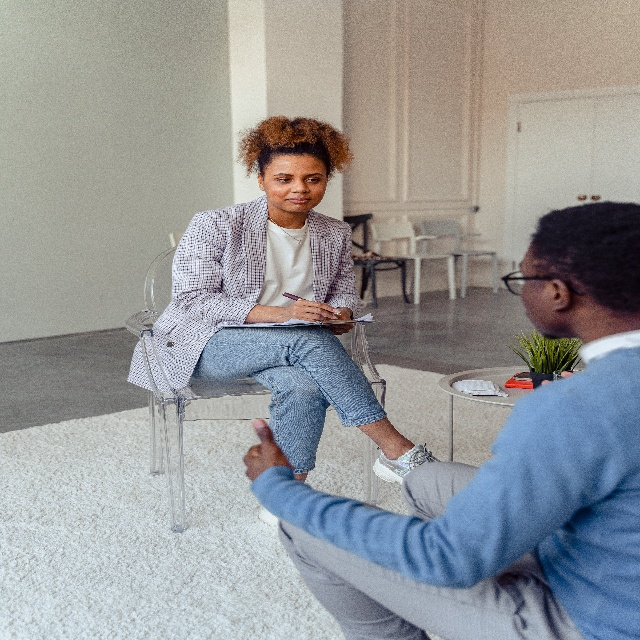Gafas: (500, 264, 584, 301)
Sin_guantes: (241, 416, 296, 489), (288, 295, 341, 321), (327, 318, 354, 337)
